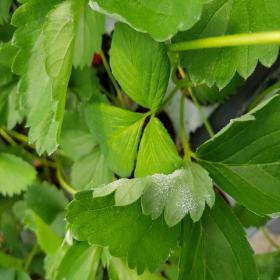Powdery Mildew Leaf: (64, 159, 216, 278), (9, 0, 85, 157), (88, 0, 206, 43)
